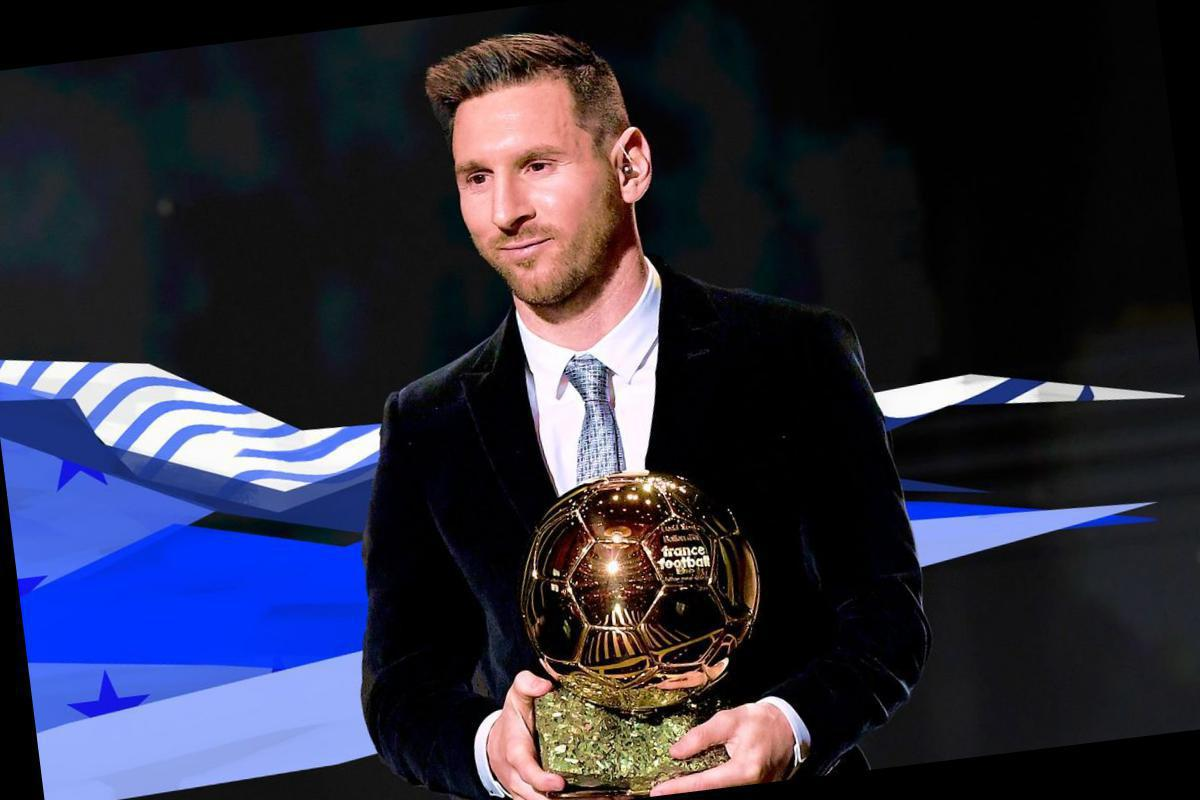Sober: (454, 104, 611, 276)
